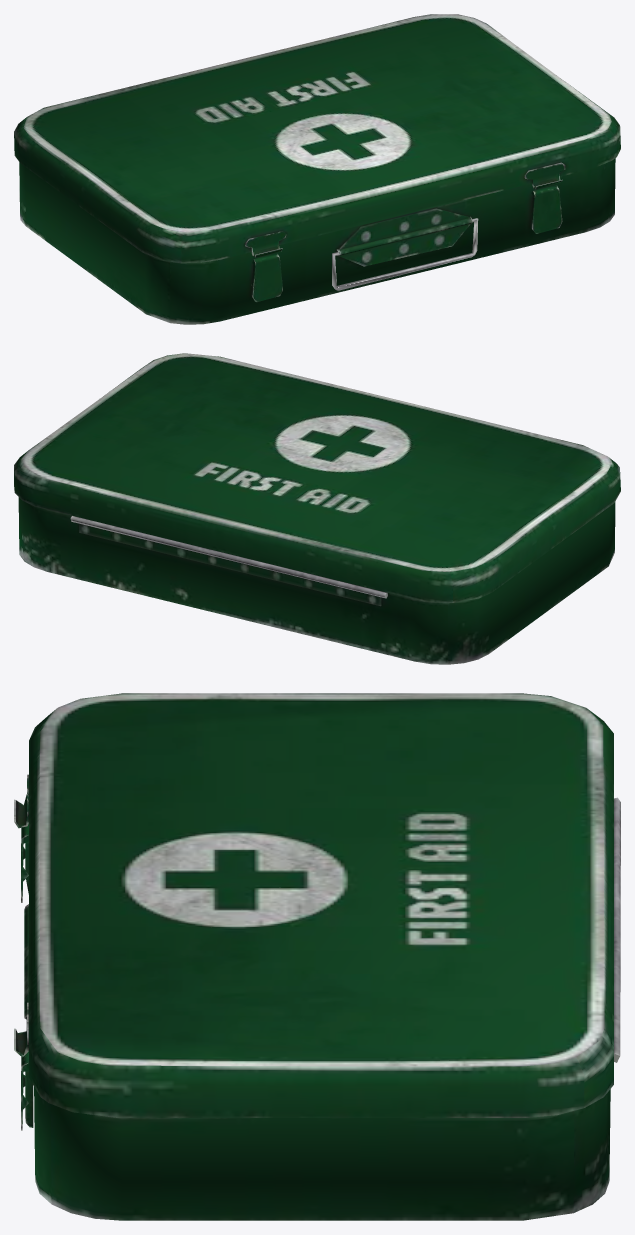
File: medical_box.glb
The picture shows the model from 3 angles, top to bottom: view 1: azimuth 30°, elevation 25°; view 2: azimuth 150°, elevation 25°; view 3: azimuth 270°, elevation 25°; orthographic projection. The views are drawn at different scales.
Visible parts, largest first — view 1: medical_box_latch; view 2: medical_box_latch; view 3: medical_box_latch.
Boxes of the visible parts, x1=… form: medical_box_latch: x1=14, y1=14, x2=620, y2=324; medical_box_latch: x1=14, y1=353, x2=620, y2=664; medical_box_latch: x1=14, y1=693, x2=620, y2=1220.
Bounding box in the file's own units: 0.5255 × 0.0967 × 0.3501.
1 material, 1 textured.
